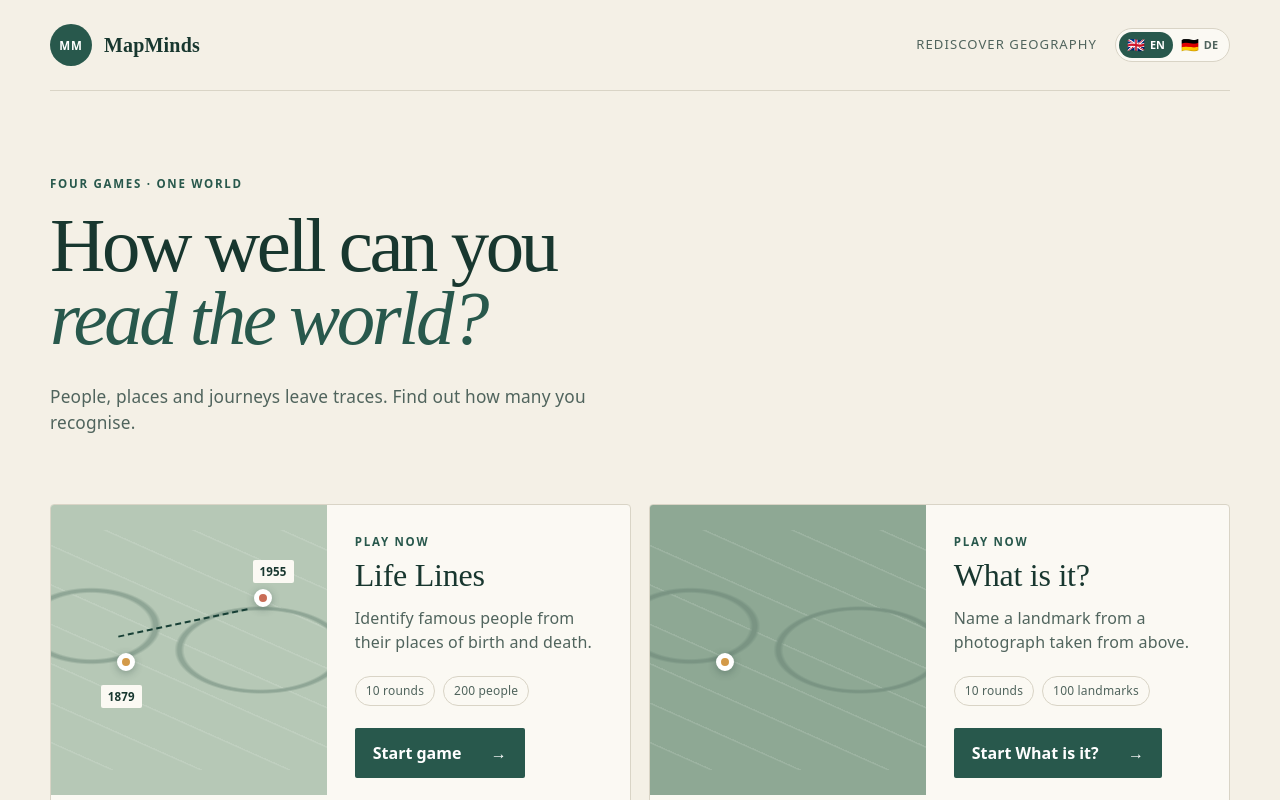
it: MapMinds hub › guides new players through the introduction
Step 1. Click the button "Start game →" → (440, 753), box [355, 728, 525, 778]
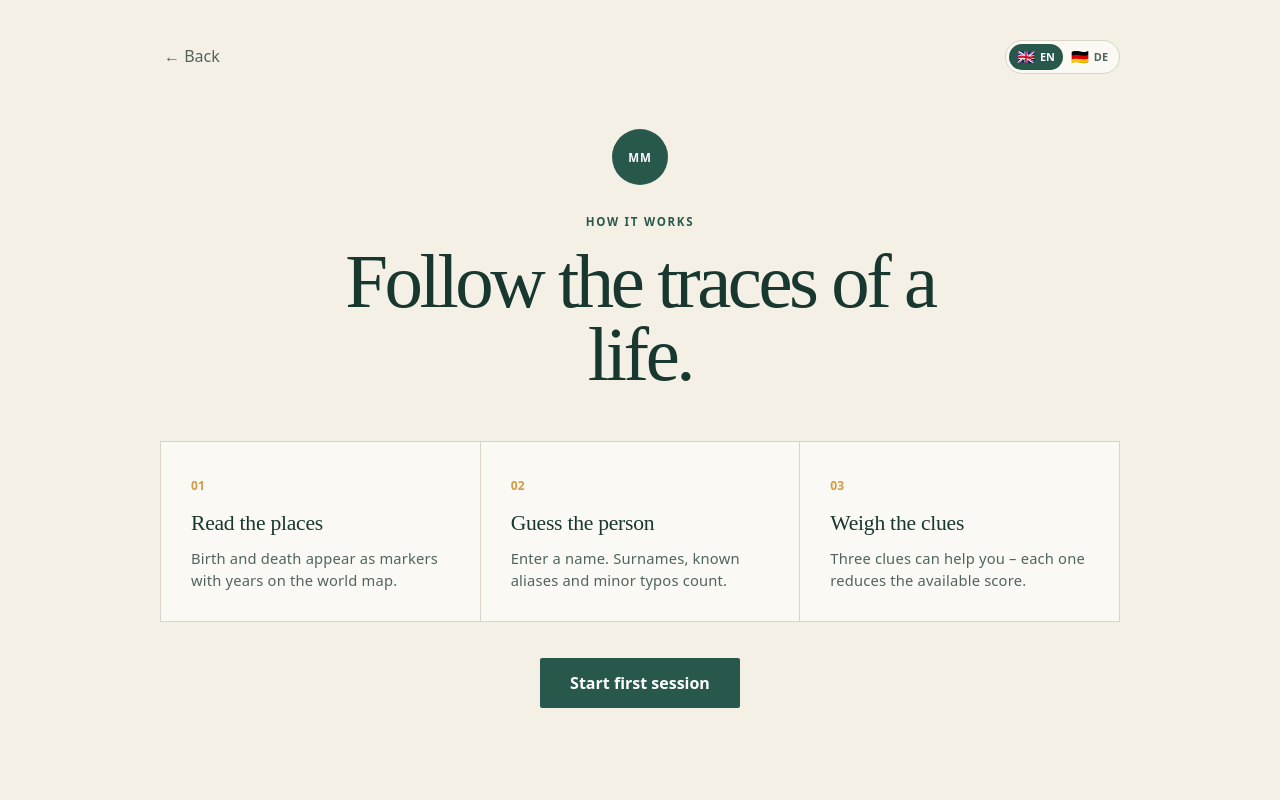
expect the heading "Follow the traces of a life." is shown: met, box [345, 239, 935, 397]
expect the heading "Read the places" is shown: met, box [191, 512, 323, 536]
Step 2. Click the button "← Back" → (192, 56), box [160, 40, 224, 72]
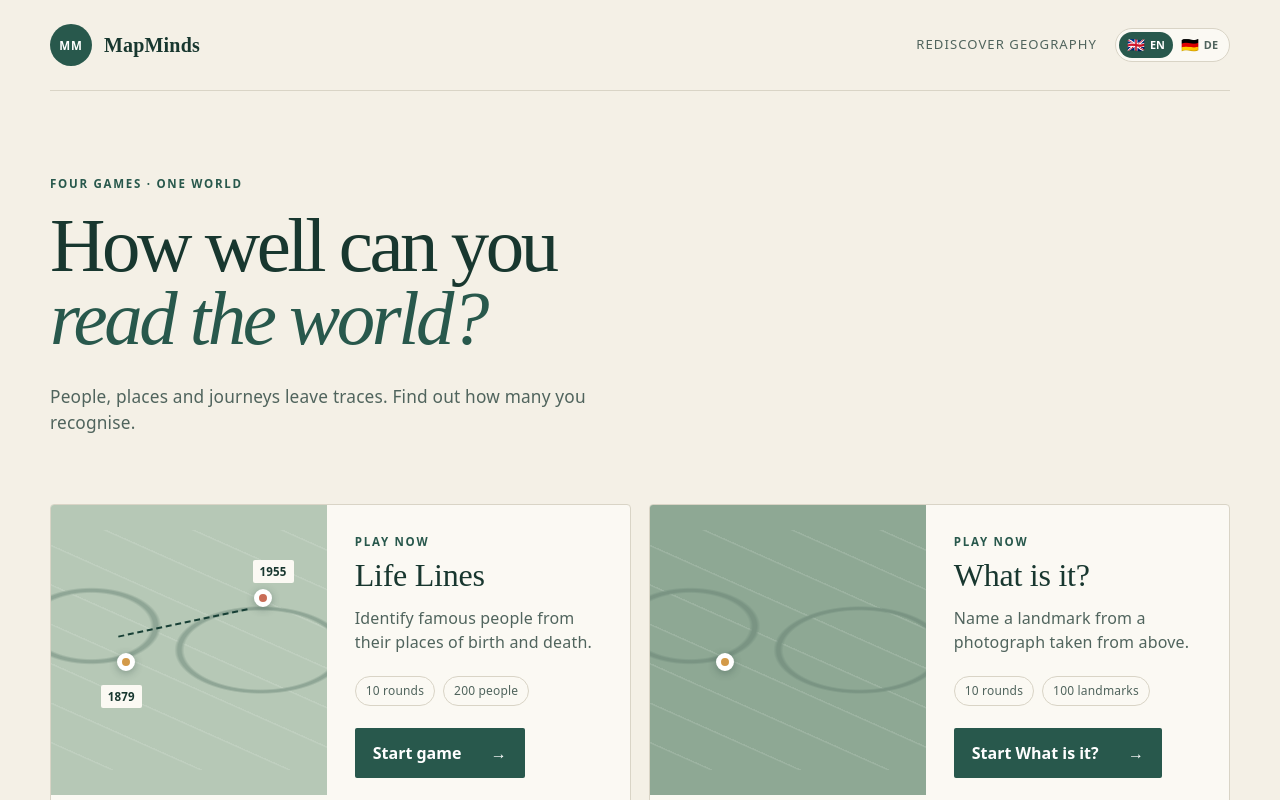
expect the heading "Life Lines" is shown: met, box [355, 557, 485, 593]
